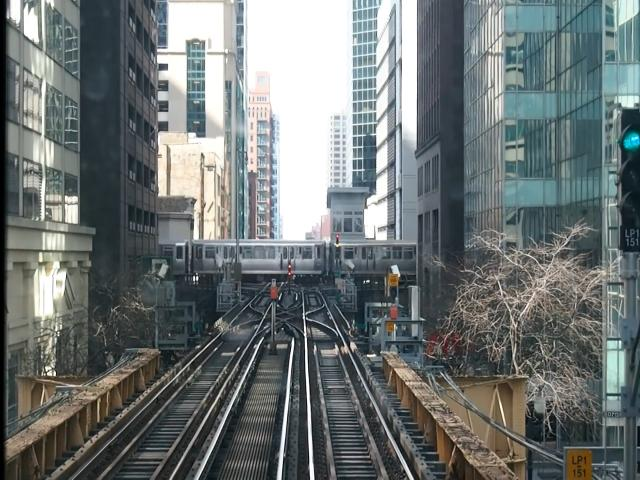signal light: (613, 104, 640, 255)
